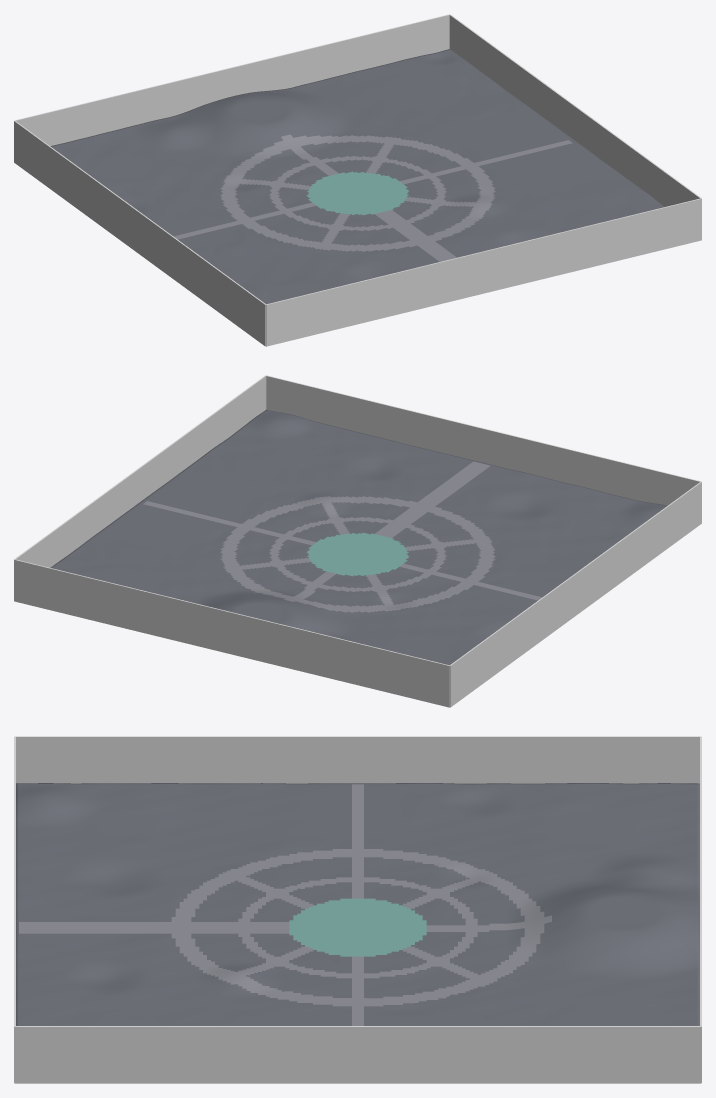
File: CursedCandyCarnival_Ground.fbx
3 views of the same model, one above another, from view 1: azimuth 30°, elevation 25°; view 2: azimuth 150°, elevation 25°; view 3: azimuth 270°, elevation 25° (orthographic). The views are drawn at different scales.
Visible parts, largest first — view 1: CUR_Terrain_Walkable, CUR_COL_Boundary_01, CUR_COL_Boundary, CUR_COL_Boundary_03, CUR_COL_Boundary_02; view 2: CUR_Terrain_Walkable, CUR_COL_Boundary, CUR_COL_Boundary_01, CUR_COL_Boundary_03, CUR_COL_Boundary_02; view 3: CUR_Terrain_Walkable, CUR_COL_Boundary_02, CUR_COL_Boundary_03, CUR_COL_Boundary, CUR_COL_Boundary_01.
Part boxes in pixels (x1=…): CUR_Terrain_Walkable: x1=50, y1=49, x2=664, y2=304; CUR_COL_Boundary_01: x1=266, y1=198, x2=701, y2=346; CUR_COL_Boundary: x1=14, y1=14, x2=449, y2=146; CUR_COL_Boundary_03: x1=14, y1=121, x2=265, y2=346; CUR_COL_Boundary_02: x1=449, y1=14, x2=701, y2=239; CUR_Terrain_Walkable: x1=50, y1=409, x2=667, y2=665; CUR_COL_Boundary: x1=14, y1=559, x2=449, y2=707; CUR_COL_Boundary_01: x1=266, y1=375, x2=701, y2=505; CUR_COL_Boundary_03: x1=450, y1=482, x2=701, y2=707; CUR_COL_Boundary_02: x1=14, y1=375, x2=266, y2=600; CUR_Terrain_Walkable: x1=16, y1=783, x2=699, y2=1025; CUR_COL_Boundary_02: x1=15, y1=1026, x2=700, y2=1083; CUR_COL_Boundary_03: x1=15, y1=736, x2=700, y2=783; CUR_COL_Boundary: x1=700, y1=736, x2=701, y2=1083; CUR_COL_Boundary_01: x1=14, y1=736, x2=15, y2=1083.
Bounding box in the file's own units: 351 × 32 × 351.
